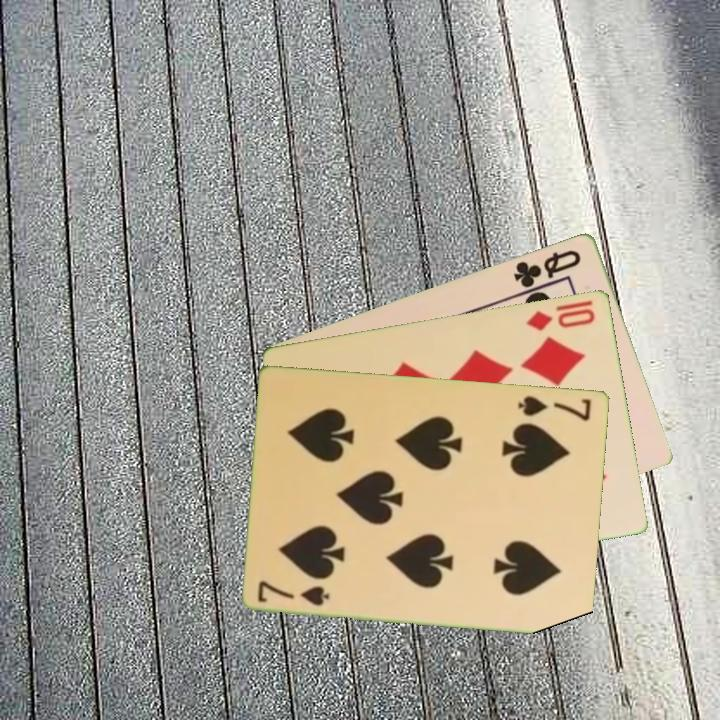10d: (523, 304, 599, 334)
7s: (515, 391, 595, 423), (254, 577, 333, 608)
Qc: (510, 245, 585, 291)
